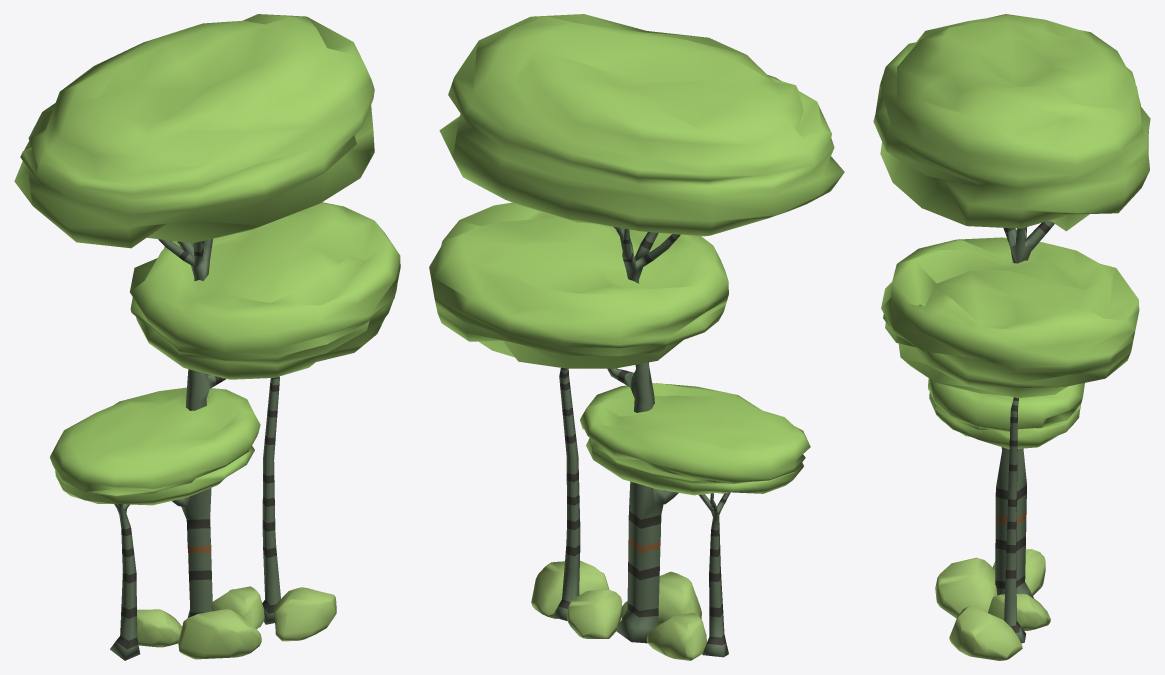
Rendered from tree_03.gltf.
The picture shows the model from 3 angles, left to right: view 1: azimuth 30°, elevation 25°; view 2: azimuth 150°, elevation 25°; view 3: azimuth 270°, elevation 25°; orthographic projection. The views are drawn at different scales.
Visible parts, largest first — view 1: tree_03; view 2: tree_03; view 3: tree_03.
Boxes of the visible parts, x1,y1,x2,y2 form: tree_03: [14, 14, 400, 660]; tree_03: [429, 14, 844, 660]; tree_03: [873, 14, 1150, 660].
Bounding box in the file's own units: 4.42 × 6.79 × 3.01.
Materials: 1 (1 with a texture image).
